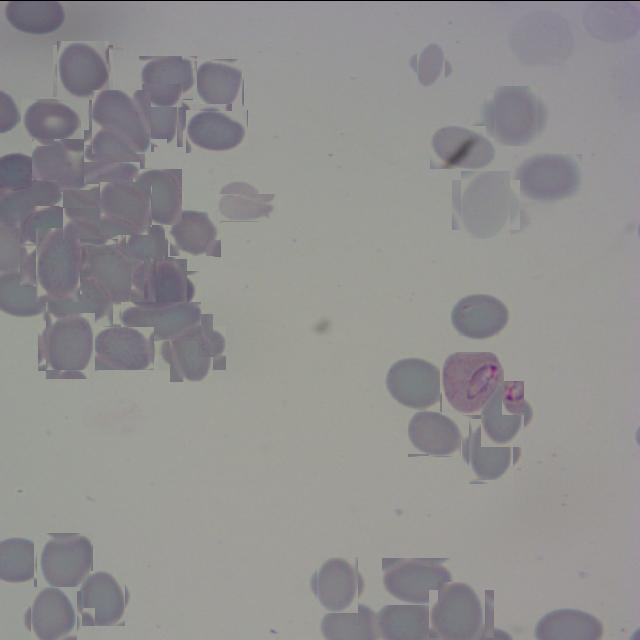leukocyte: (90, 90, 152, 152), (82, 245, 145, 302), (28, 234, 87, 294), (456, 174, 516, 233), (84, 129, 146, 184), (382, 557, 454, 604), (42, 316, 100, 374), (512, 153, 582, 201), (384, 356, 446, 408), (35, 534, 92, 590), (32, 138, 91, 192), (55, 42, 111, 98), (164, 319, 220, 375), (121, 301, 201, 340), (434, 585, 490, 640), (450, 292, 512, 341), (475, 385, 530, 440), (66, 186, 120, 242), (46, 285, 114, 329), (464, 424, 518, 478), (430, 125, 496, 168), (20, 204, 84, 247), (21, 98, 82, 143), (133, 168, 182, 224), (186, 109, 248, 153), (142, 264, 194, 316), (136, 88, 188, 140), (490, 88, 542, 140), (100, 182, 152, 234), (28, 590, 82, 640), (139, 54, 198, 99), (192, 59, 243, 110), (95, 324, 154, 368), (168, 208, 221, 256), (78, 573, 128, 622), (120, 225, 170, 274), (408, 411, 462, 456), (313, 560, 362, 609), (218, 193, 278, 221), (6, 179, 60, 208), (412, 46, 450, 84)
schizont: (441, 352, 503, 414)
